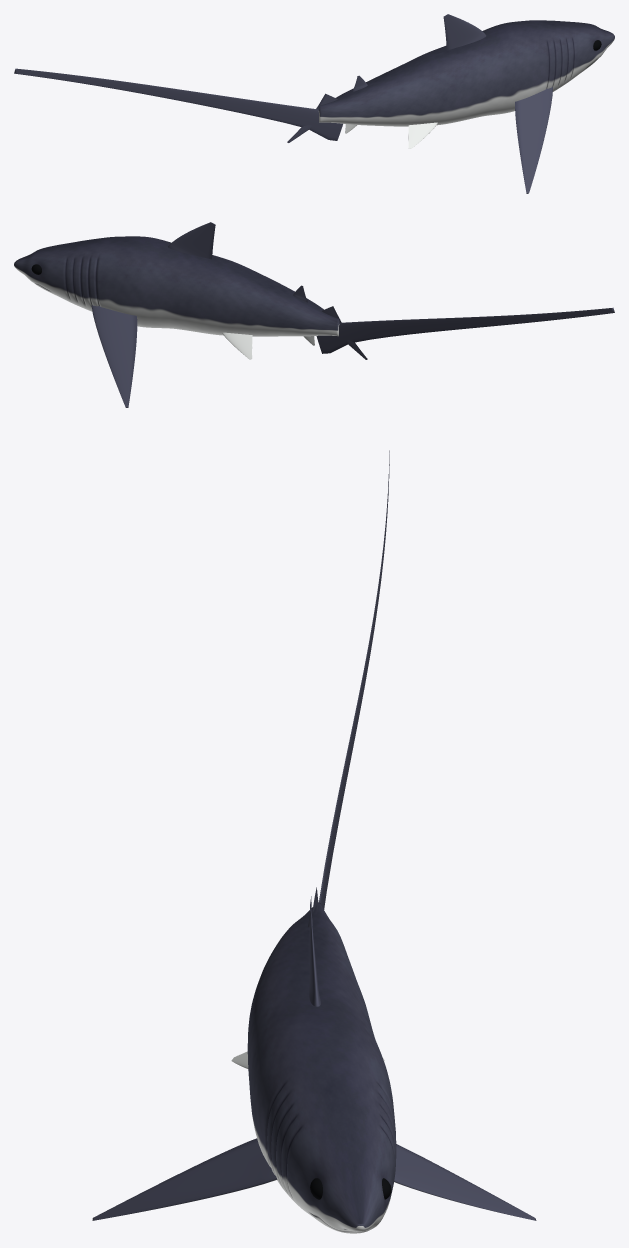
Rendered from common_thresher.glb.
3 views of the same model, one above another, from view 1: azimuth 30°, elevation 25°; view 2: azimuth 150°, elevation 25°; view 3: azimuth 270°, elevation 25° (orthographic). The views are drawn at different scales.
Parts seen in each view (by area): view 1: CommonThresher_Body, CommonThresher_Fins; view 2: CommonThresher_Body, CommonThresher_Fins; view 3: CommonThresher_Body, CommonThresher_Fins.
Part boxes in pixels (x1,y1,x2,y2): CommonThresher_Body: (318,20,614,126); CommonThresher_Fins: (14,14,552,193); CommonThresher_Body: (14,236,339,336); CommonThresher_Fins: (91,222,614,407); CommonThresher_Body: (247,902,396,1233); CommonThresher_Fins: (92,450,536,1220).
Size of the model in its own units: 4.5 by 1.29 by 1.46.
3 materials, 1 textured.
